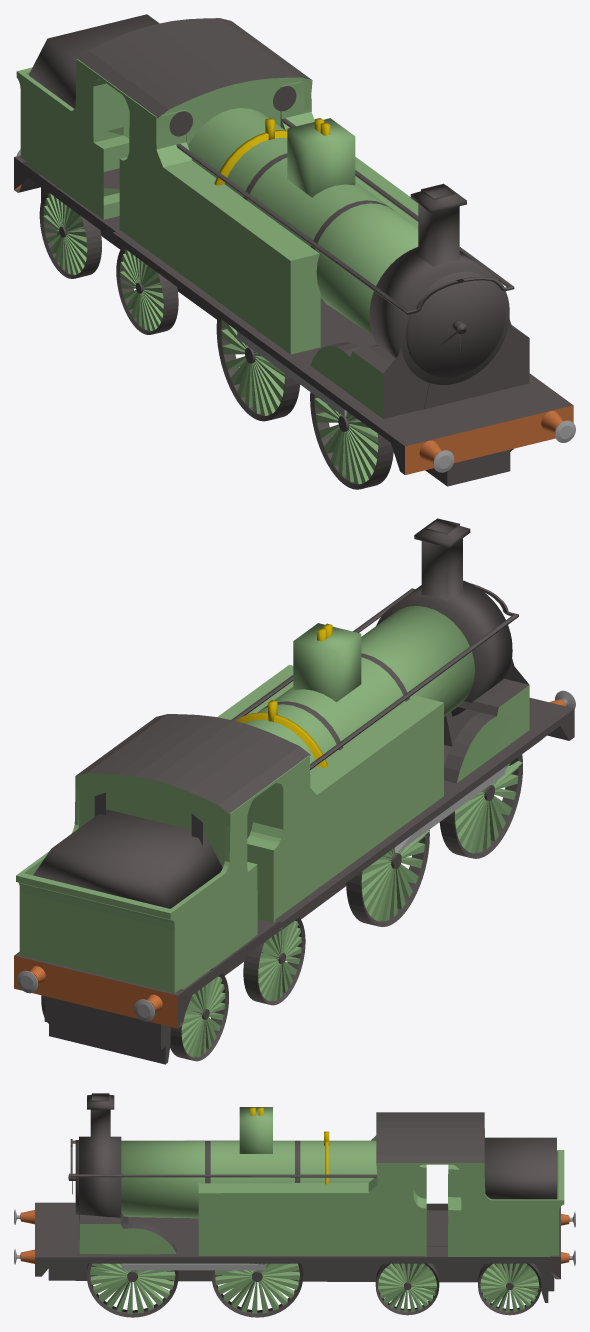
Rendered from lswr-m7-olive.dae.
3 views of the same model, one above another, from view 1: azimuth 30°, elevation 25°; view 2: azimuth 150°, elevation 25°; view 3: azimuth 270°, elevation 25° (orthographic). The views are drawn at different scales.
Visible parts, largest first — view 1: Cube_009, Cylinder_008, Tube, Cube_003, Cylinder_002, Cylinder_010, Cylinder_013, Cylinder_006, Cylinder_001, Cube_006, Cube_015, Cylinder_005 (+10 smaller); view 2: Cube_009, Tube, Cylinder_008, Cube_015, Cube_017, Cube_003, Cylinder_002, Cube_005, Cylinder_013, Cylinder_001, Cylinder_006, Cube_006 (+6 smaller); view 3: Cube_009, Cylinder_008, Cube_003, Tube, Cube_015, Cube_005, Cylinder_001, Cylinder_006, Cylinder_013, Cube_017, Cylinder_002, Cylinder_003 (+5 smaller).
Part boxes in pixels (x1=…): Cube_009: x1=16, y1=59, x2=418, y2=354; Cylinder_008: x1=188, y1=108, x2=418, y2=335; Tube: x1=76, y1=18, x2=312, y2=171; Cube_003: x1=112, y1=230, x2=573, y2=474; Cylinder_002: x1=310, y1=319, x2=529, y2=418; Cylinder_010: x1=406, y1=271, x2=505, y2=377; Cylinder_013: x1=369, y1=247, x2=509, y2=384; Cylinder_006: x1=310, y1=392, x2=513, y2=489; Cylinder_001: x1=216, y1=316, x2=299, y2=421; Cube_006: x1=287, y1=118, x2=355, y2=197; Cube_015: x1=28, y1=14, x2=159, y2=108; Cylinder_005: x1=39, y1=186, x2=101, y2=278; Cube_009: x1=16, y1=665, x2=443, y2=993; Tube: x1=75, y1=714, x2=310, y2=867; Cylinder_008: x1=244, y1=606, x2=474, y2=771; Cube_015: x1=33, y1=809, x2=222, y2=908; Cube_017: x1=14, y1=727, x2=557, y2=1028; Cube_003: x1=257, y1=697, x2=574, y2=929; Cylinder_002: x1=444, y1=657, x2=529, y2=783; Cube_005: x1=44, y1=883, x2=346, y2=1064; Cylinder_013: x1=376, y1=580, x2=512, y2=716; Cylinder_001: x1=346, y1=830, x2=429, y2=926; Cylinder_006: x1=439, y1=754, x2=522, y2=858; Cube_006: x1=293, y1=623, x2=361, y2=702; Cube_009: x1=198, y1=1128, x2=564, y2=1256; Cylinder_008: x1=121, y1=1140, x2=377, y2=1218; Cube_003: x1=35, y1=1202, x2=425, y2=1276; Tube: x1=376, y1=1112, x2=484, y2=1177; Cube_015: x1=484, y1=1137, x2=556, y2=1199; Cube_005: x1=48, y1=1226, x2=554, y2=1302; Cylinder_001: x1=211, y1=1263, x2=303, y2=1317; Cylinder_006: x1=87, y1=1263, x2=178, y2=1317; Cylinder_013: x1=79, y1=1136, x2=121, y2=1221; Cube_017: x1=39, y1=1203, x2=560, y2=1279; Cylinder_002: x1=79, y1=1213, x2=176, y2=1254; Cylinder_003: x1=375, y1=1263, x2=439, y2=1315.
Size of the model in its own units: 2.04 by 8.84 by 3.41.
